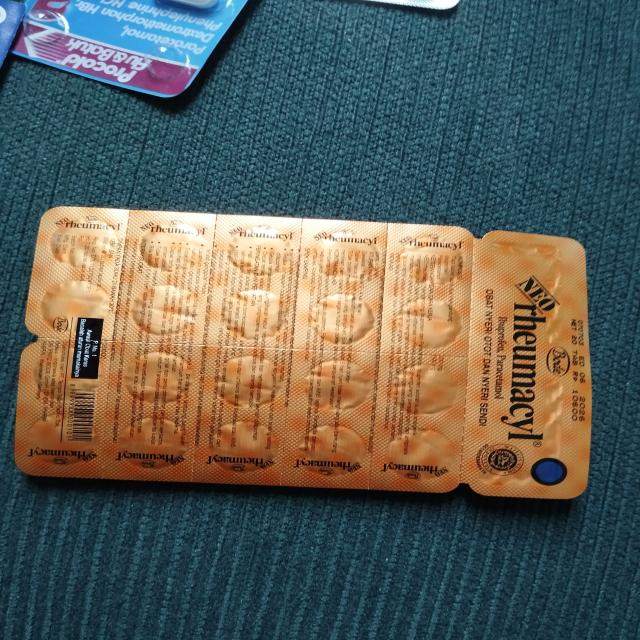B3: (13, 205, 586, 499)
